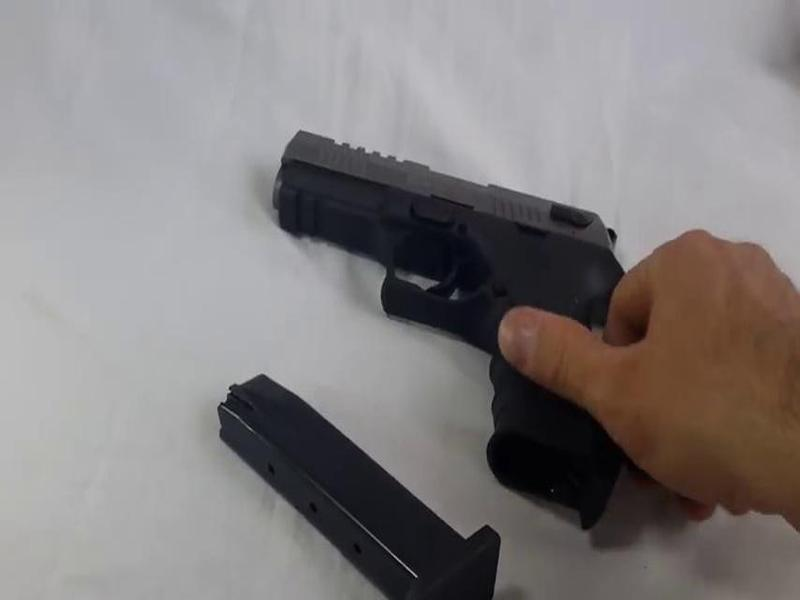Pistola: (267, 119, 644, 507)
